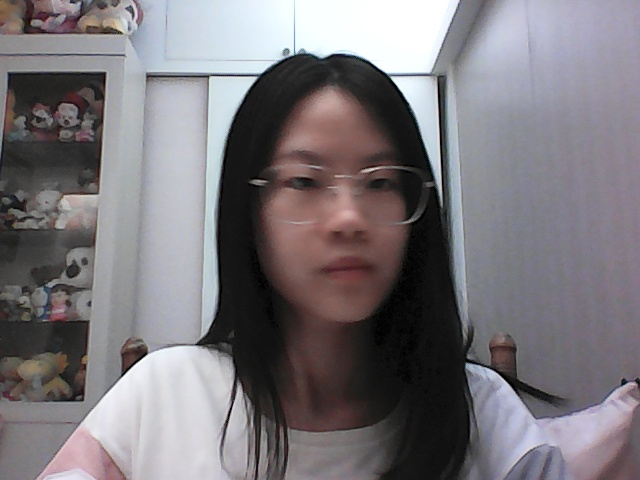NoMask: (265, 216, 415, 331)
